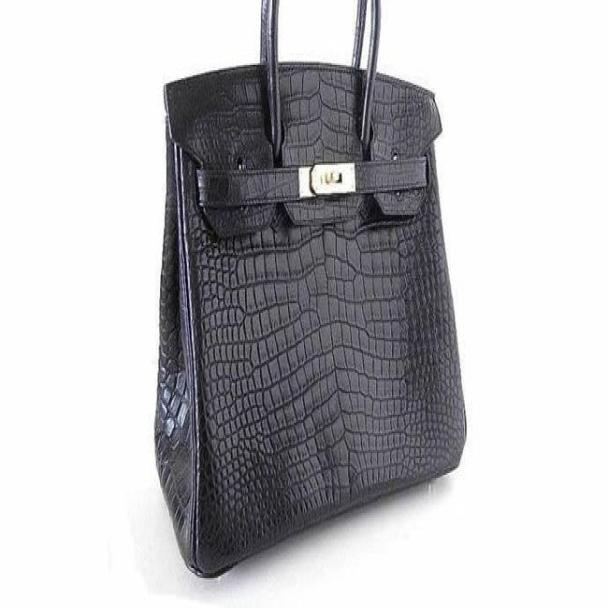Tas: (156, 74, 463, 573)
